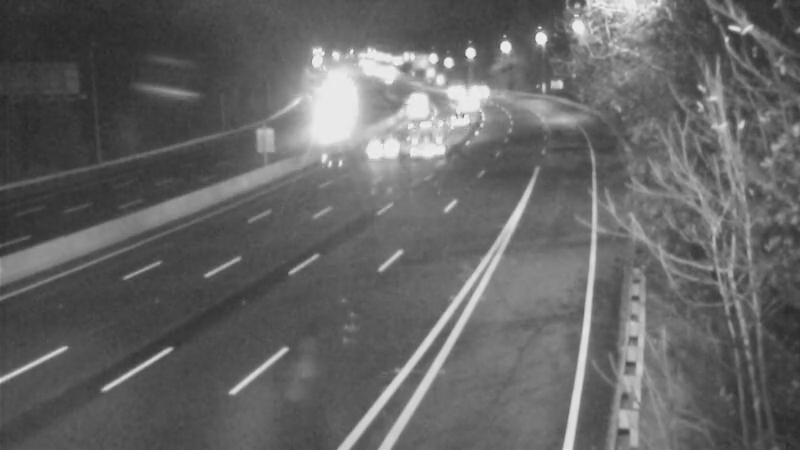vehicle: (432, 66, 482, 116), (455, 65, 505, 115), (386, 71, 436, 121), (438, 76, 488, 126), (390, 82, 440, 132), (433, 95, 483, 145), (403, 113, 453, 163), (365, 121, 415, 171)
